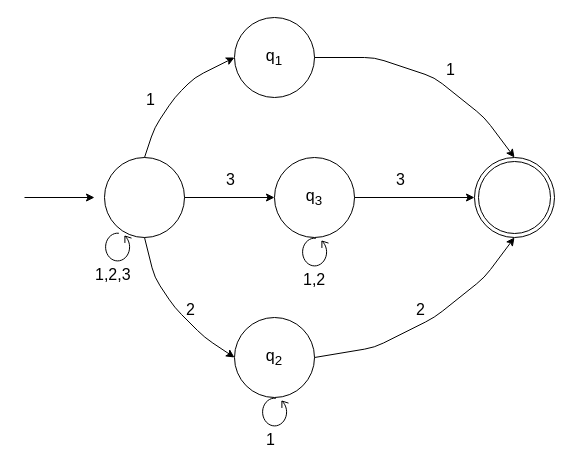
This 572x467 diagram has some shape labels left out. Here are the shapes that lost their labels. From the top down, the centre of each, then its label:
point (144, 197): q 0
point (514, 197): q 4
